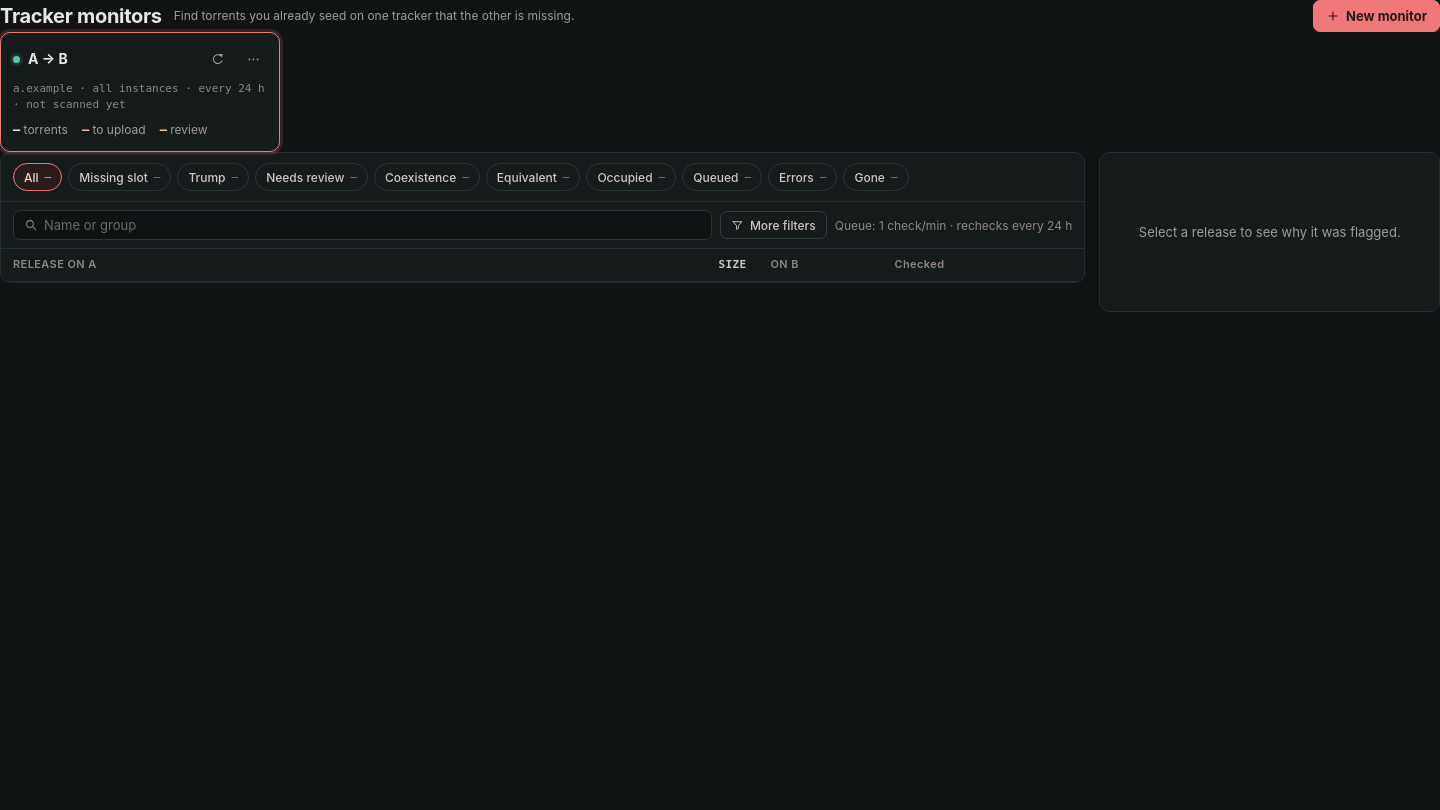
Test: keeps an all-instances monitor unless a fixed list is saved
The image size is (1440, 810).
Step 1. Press ArrowDown in the button named "Monitor options", box [239,45,267,73]
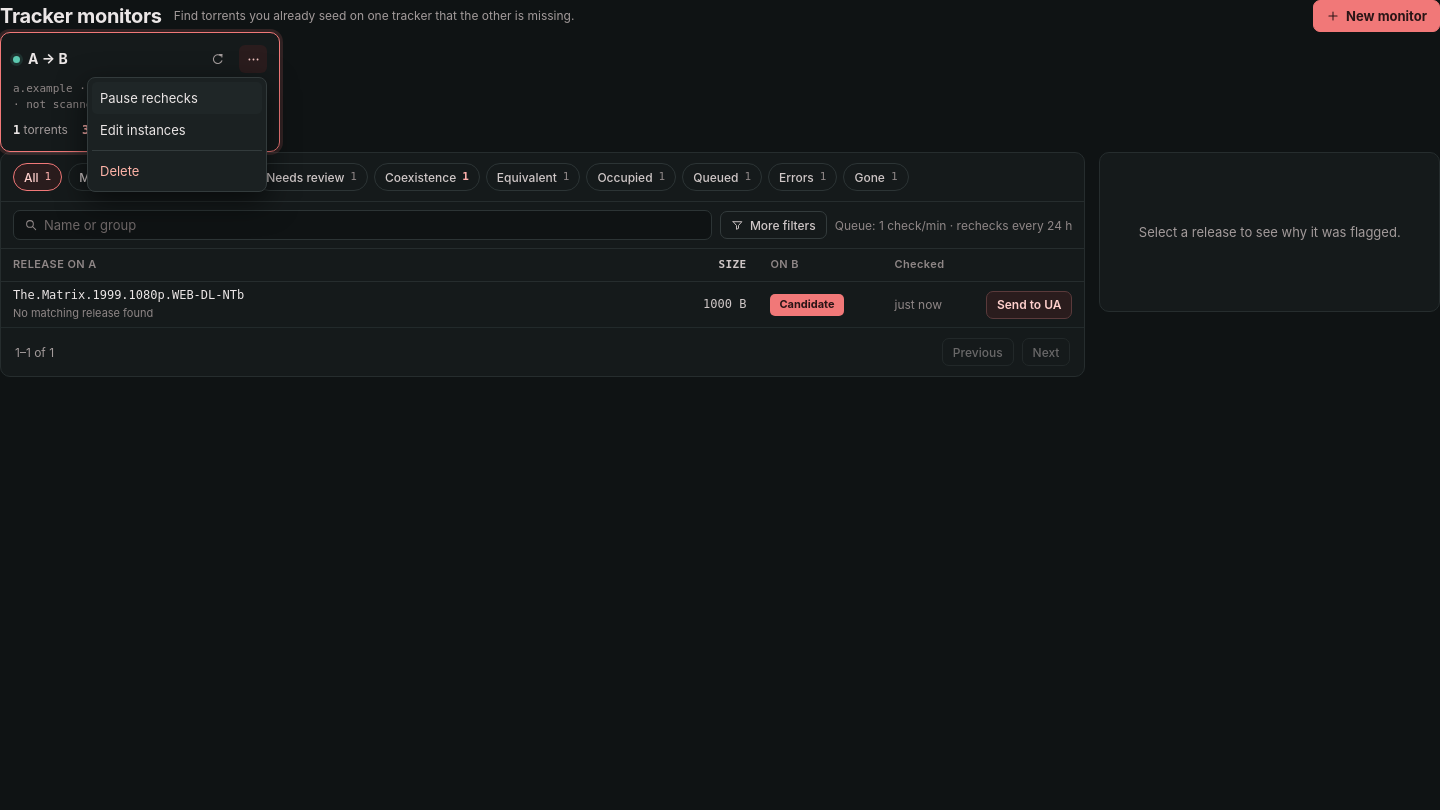
Step 2. Click the menu item "Edit instances" → [143, 130], box [100,122,186,138]
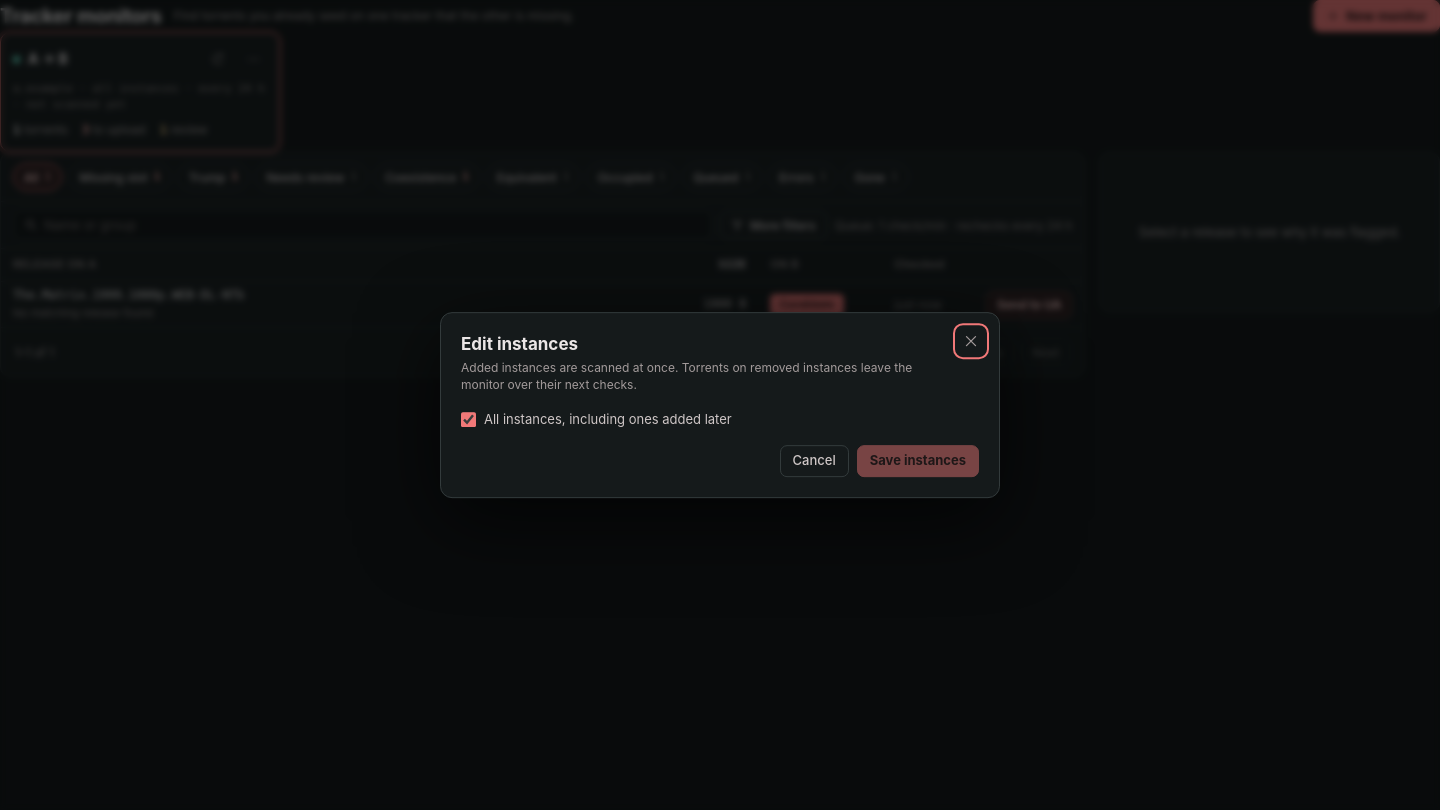
Expected: the checkbox labelled "Homelab" is not shown
Expected: the checkbox labelled "All instances, including ones added later" is checked
Expected: the button "Save instances" is disabled, [857,445,979,477]
Step 3. Click the checkbox labelled "All instances, including ones added later" → [468, 419], box [461,412,476,427]
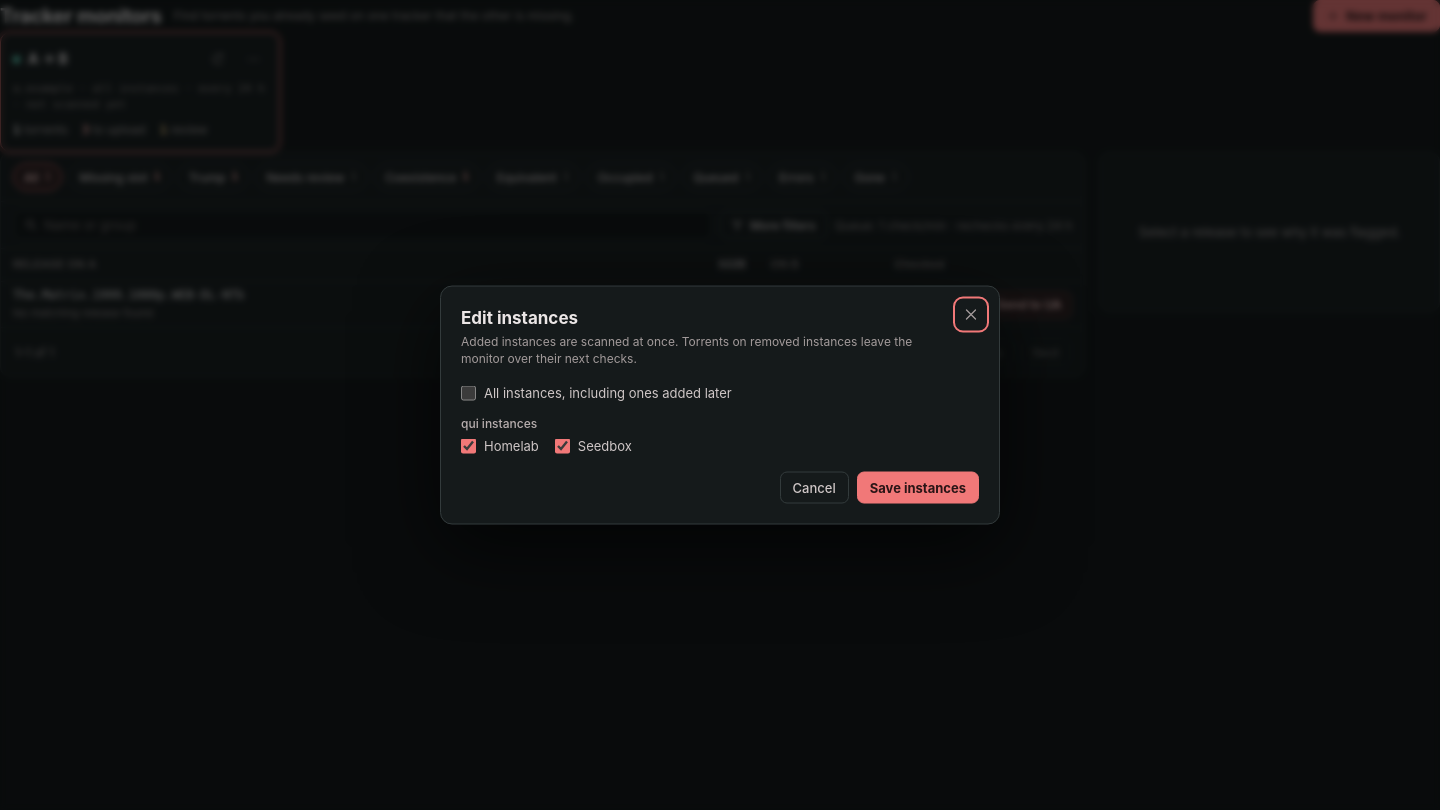
Expected: the checkbox labelled "Homelab" is checked
Expected: the checkbox labelled "Seedbox" is checked, [555,439,570,454]
Step 4. Click the checkbox labelled "Homelab" → [468, 446], box [461,439,476,454]
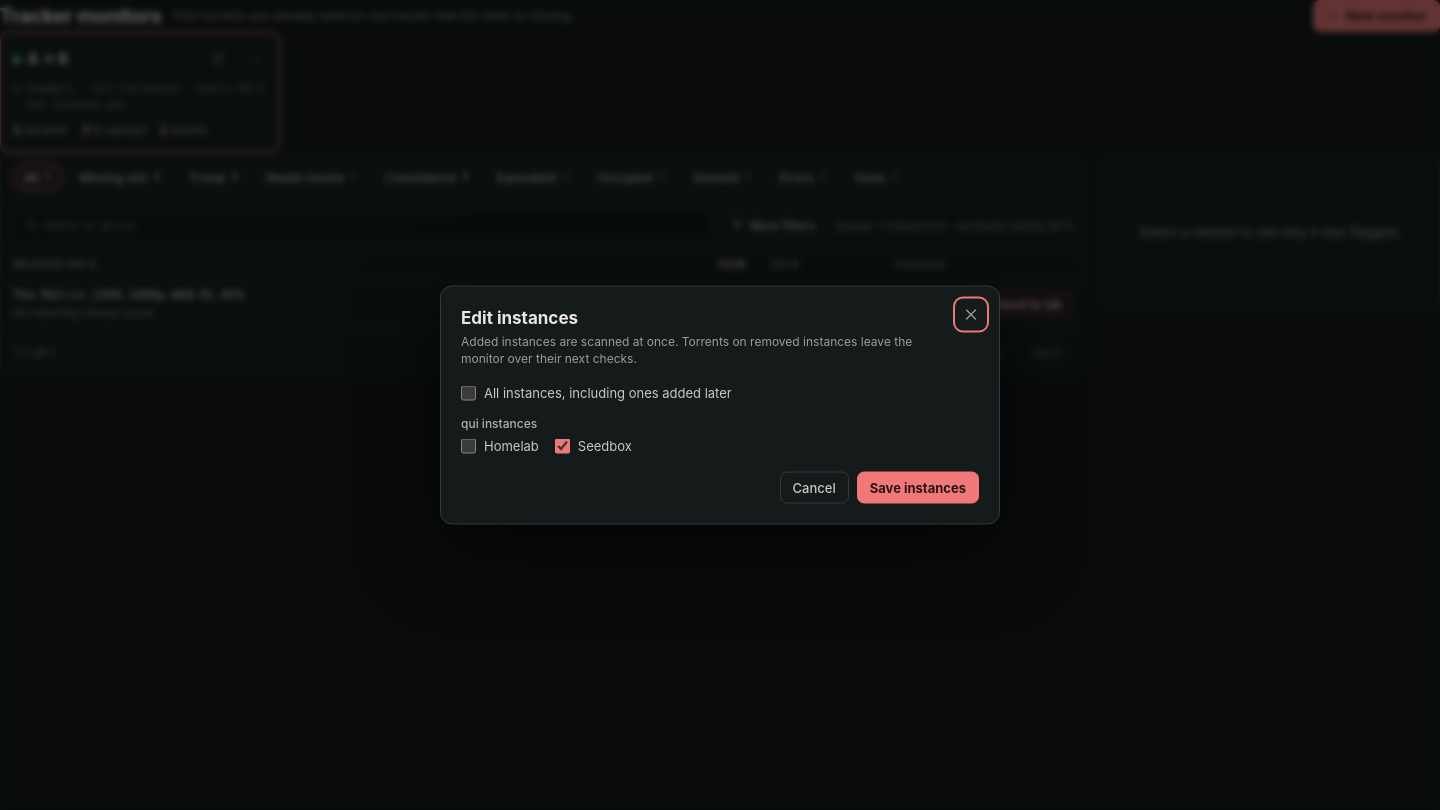
Step 5. Click the button "Save instances" → [918, 488], box [857,472,979,504]
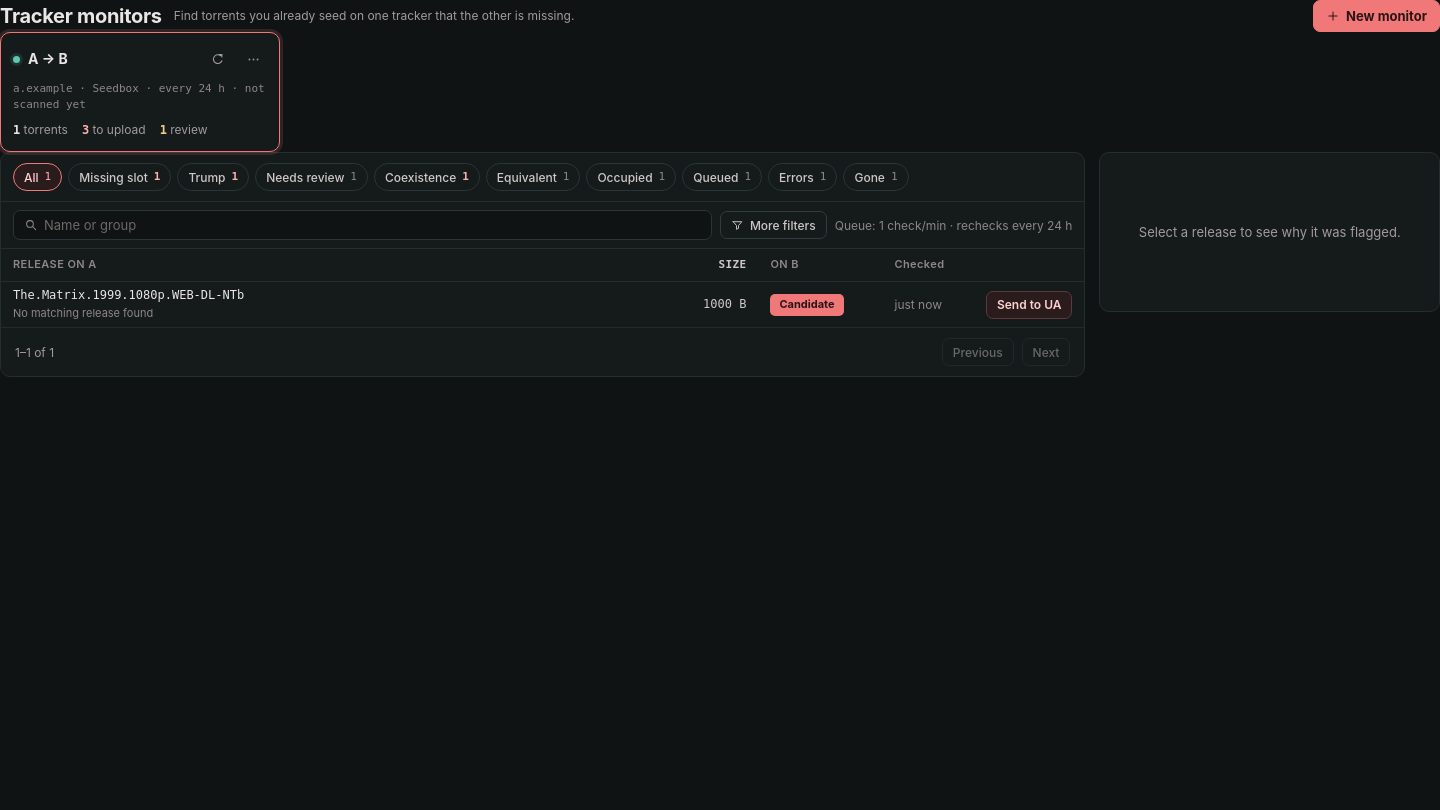
Expected: the dialog is gone
Expected: the text "a.example · Seedbox · every 24 h · not scanned yet" is shown, [13,81,267,113]
